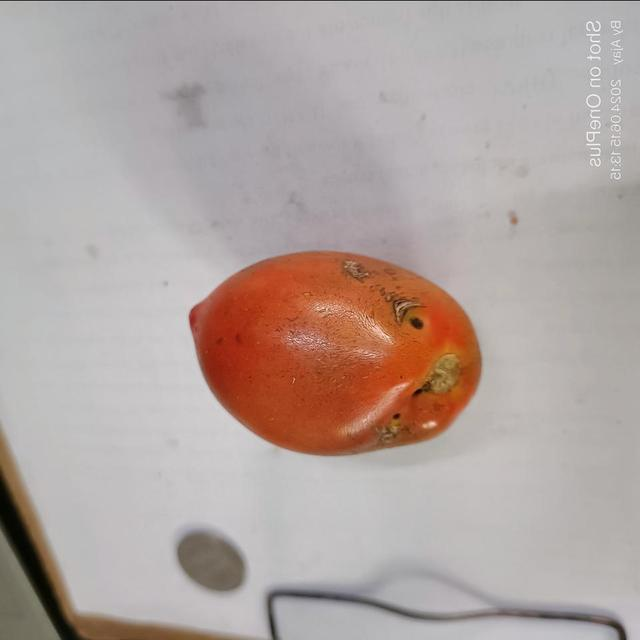Bacterial Spot Fruit: (6, 4, 280, 277)
